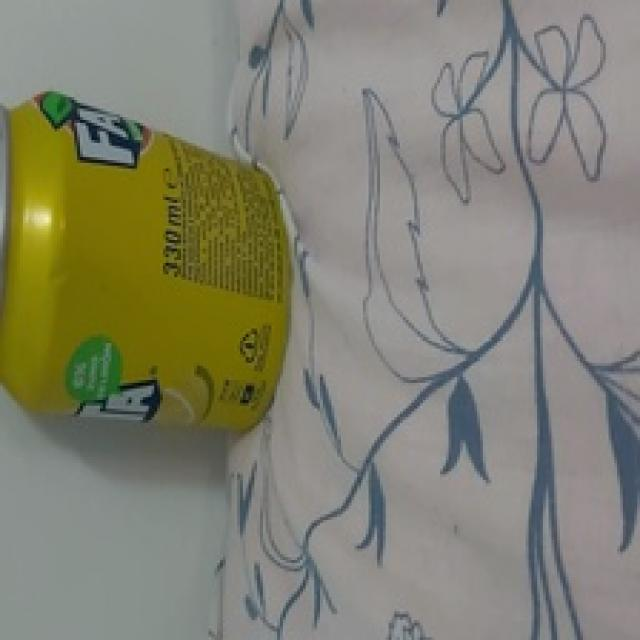recyclable: (0, 90, 291, 434)
